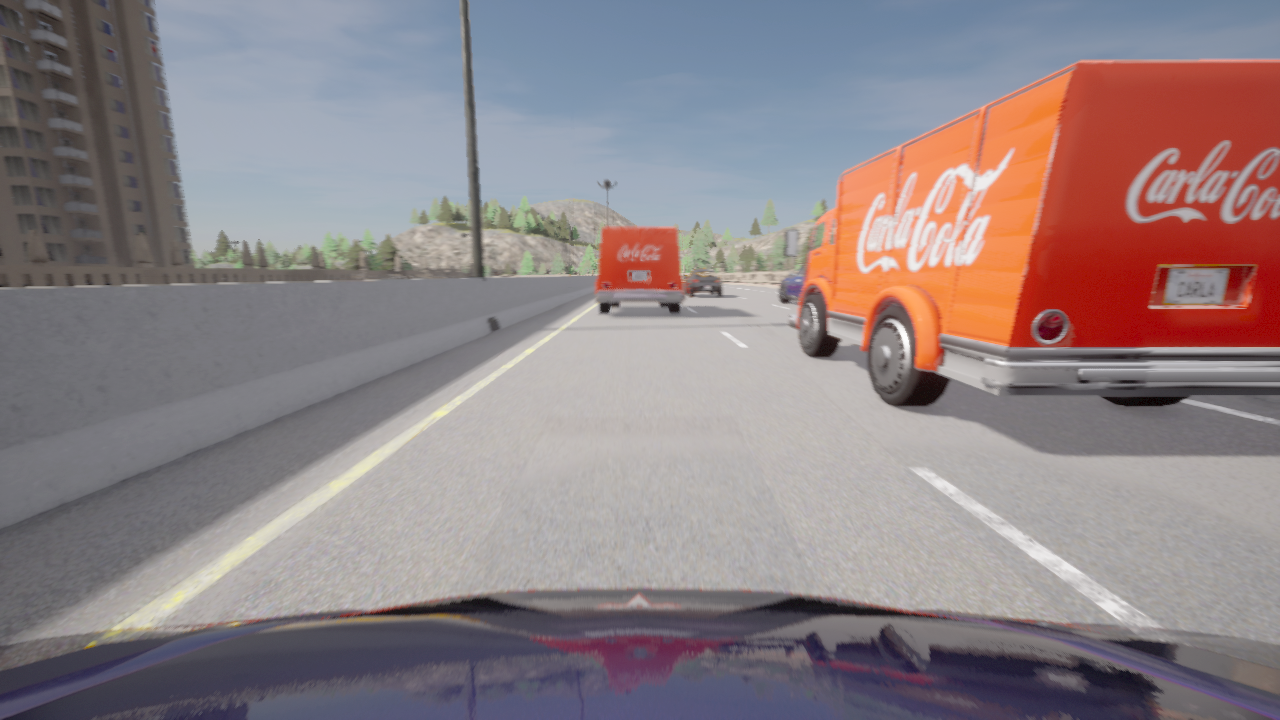cyclist: (785, 59, 1279, 406), (0, 588, 1279, 719), (596, 227, 684, 313), (684, 269, 722, 296), (779, 264, 805, 302)
